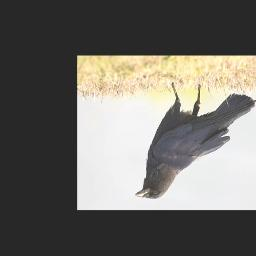Crow: (133, 82, 256, 200)
